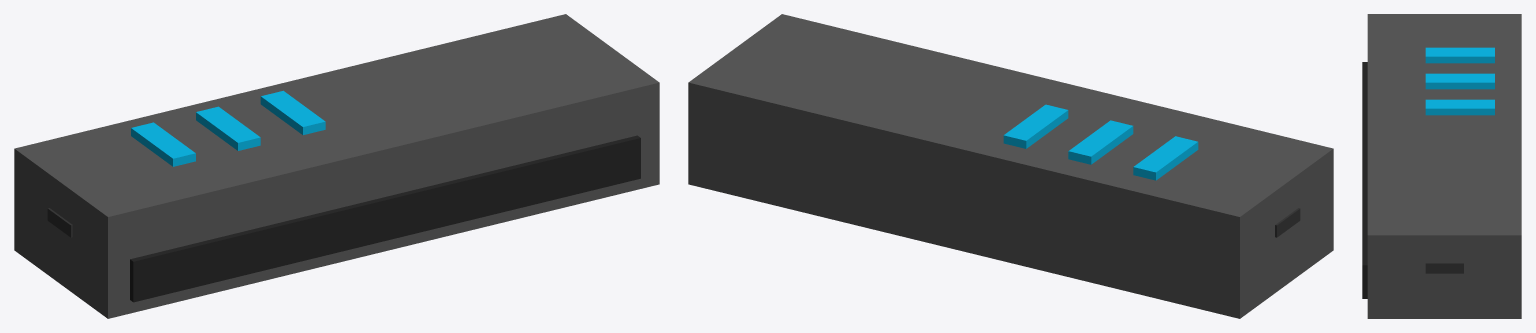
The model's file is ce_ammo2_plasmar_std_a.obj.
3 views of the same model, side by side, from view 1: azimuth 30°, elevation 25°; view 2: azimuth 150°, elevation 25°; view 3: azimuth 270°, elevation 25° (orthographic). The views are drawn at different scales.
Parts seen in each view (by area): view 1: ce_ammo2_plasmar_std_a_0, ce_ammo2_plasmar_std_a_1, ce_ammo2_plasmar_std_a_5, ce_ammo2_plasmar_std_a_3, ce_ammo2_plasmar_std_a_4; view 2: ce_ammo2_plasmar_std_a_0, ce_ammo2_plasmar_std_a_4, ce_ammo2_plasmar_std_a_5, ce_ammo2_plasmar_std_a_3; view 3: ce_ammo2_plasmar_std_a_0, ce_ammo2_plasmar_std_a_1, ce_ammo2_plasmar_std_a_3, ce_ammo2_plasmar_std_a_4, ce_ammo2_plasmar_std_a_5, ce_ammo2_plasmar_std_a_2.
Boxes of the visible parts, <box> form: ce_ammo2_plasmar_std_a_0: <box>14,14,659,318</box>; ce_ammo2_plasmar_std_a_1: <box>130,135,640,302</box>; ce_ammo2_plasmar_std_a_5: <box>260,90,325,134</box>; ce_ammo2_plasmar_std_a_3: <box>131,122,195,166</box>; ce_ammo2_plasmar_std_a_4: <box>196,106,260,150</box>; ce_ammo2_plasmar_std_a_0: <box>688,14,1333,318</box>; ce_ammo2_plasmar_std_a_4: <box>1068,120,1133,164</box>; ce_ammo2_plasmar_std_a_5: <box>1003,104,1068,148</box>; ce_ammo2_plasmar_std_a_3: <box>1133,136,1198,180</box>; ce_ammo2_plasmar_std_a_0: <box>1367,14,1521,318</box>; ce_ammo2_plasmar_std_a_1: <box>1362,62,1367,298</box>; ce_ammo2_plasmar_std_a_3: <box>1425,47,1494,63</box>; ce_ammo2_plasmar_std_a_4: <box>1425,73,1494,89</box>; ce_ammo2_plasmar_std_a_5: <box>1425,99,1494,115</box>; ce_ammo2_plasmar_std_a_2: <box>1425,263,1463,273</box>.
Size of the model in its own units: 0.856 by 0.162 by 0.259.
